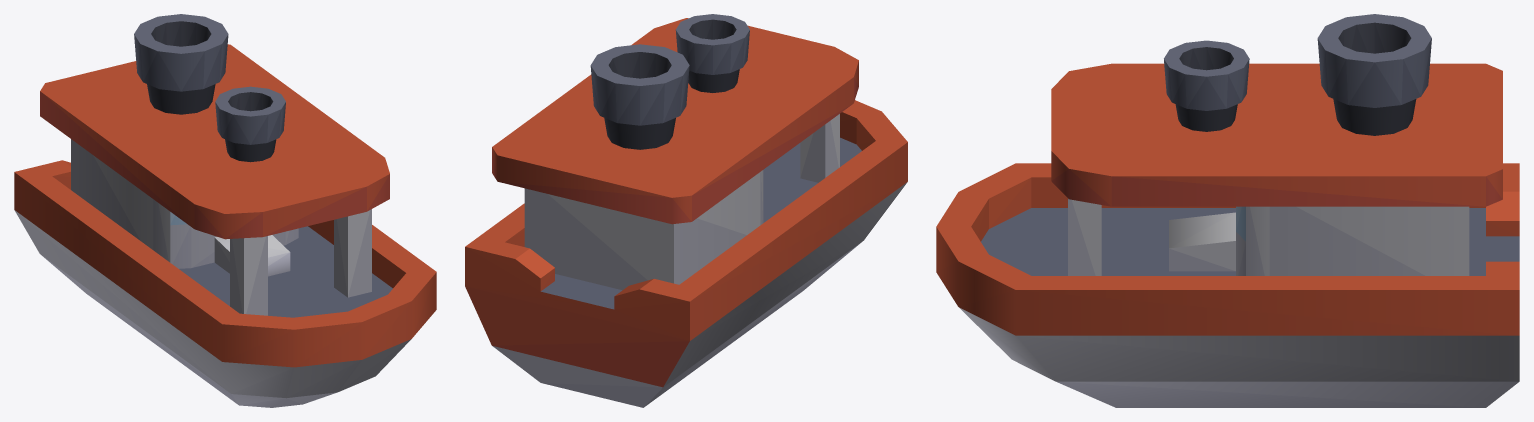
The model's file is watercraft_boat_tug_a.glb.
The picture shows the model from 3 angles, left to right: view 1: azimuth 30°, elevation 25°; view 2: azimuth 150°, elevation 25°; view 3: azimuth 270°, elevation 25°; orthographic projection. The views are drawn at different scales.
Parts seen in each view (by area): view 1: watercraft_boat_tug_a; view 2: watercraft_boat_tug_a; view 3: watercraft_boat_tug_a.
Part boxes in pixels (left/top/right/bottom): watercraft_boat_tug_a: left=14, top=14, right=436, bottom=407; watercraft_boat_tug_a: left=465, top=14, right=907, bottom=407; watercraft_boat_tug_a: left=936, top=14, right=1519, bottom=407.
Bounding box in the file's own units: 1.78 × 2.24 × 3.47.
